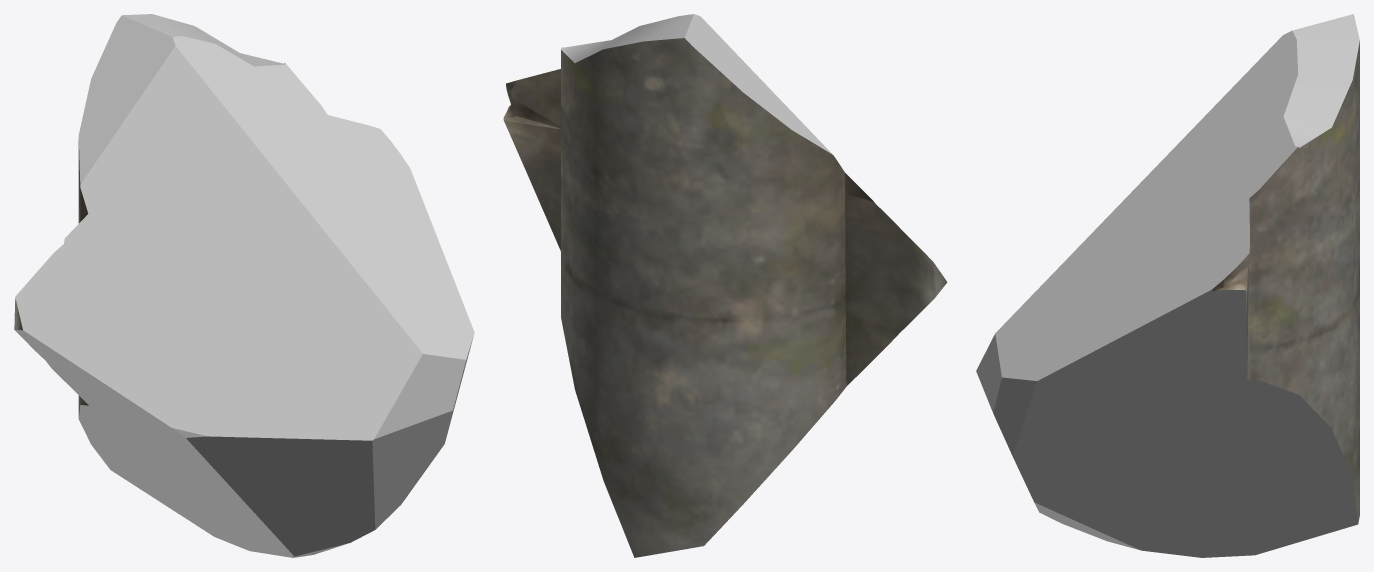
File: ColumnDamage08_43.fbx
3 views of the same model, side by side, from view 1: azimuth 30°, elevation 25°; view 2: azimuth 150°, elevation 25°; view 3: azimuth 270°, elevation 25° (orthographic). The views are drawn at different scales.
Visible parts, largest first — view 1: ColumnDamage08_DM.043; view 2: ColumnDamage08_DM.043; view 3: ColumnDamage08_DM.043.
Boxes of the visible parts, <box> form: ColumnDamage08_DM.043: <box>14,14,474,557</box>; ColumnDamage08_DM.043: <box>503,14,947,557</box>; ColumnDamage08_DM.043: <box>976,14,1359,557</box>.
Size of the model in its own units: 194 by 240 by 161.
